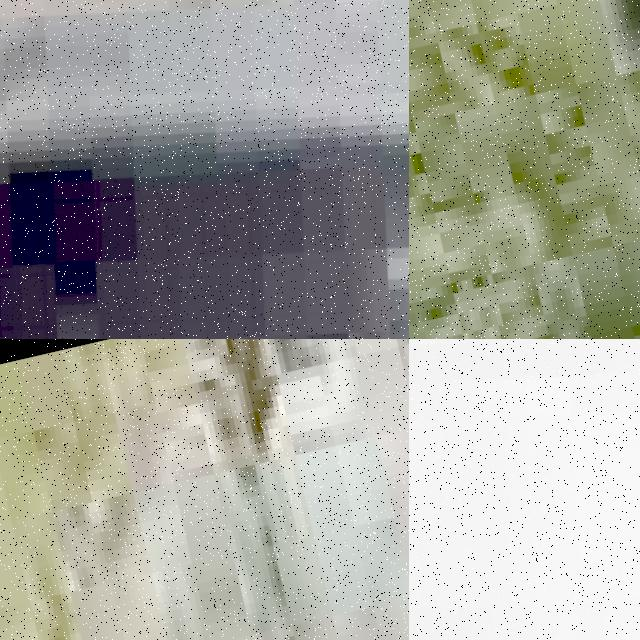drone: (0, 0, 409, 339), (409, 339, 640, 640)
